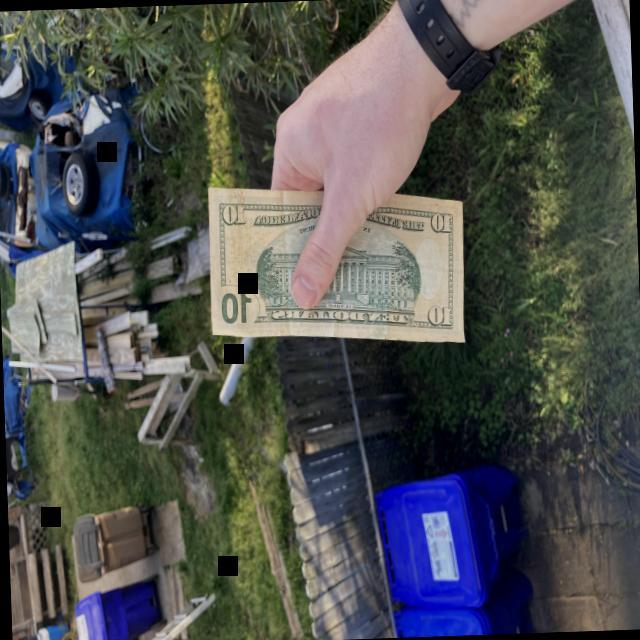ten: (208, 187, 464, 342)
